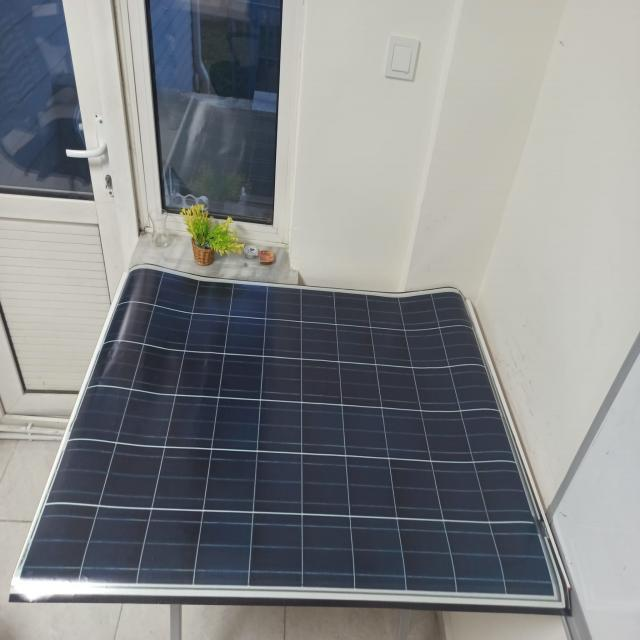no faulty: (14, 270, 572, 610)
